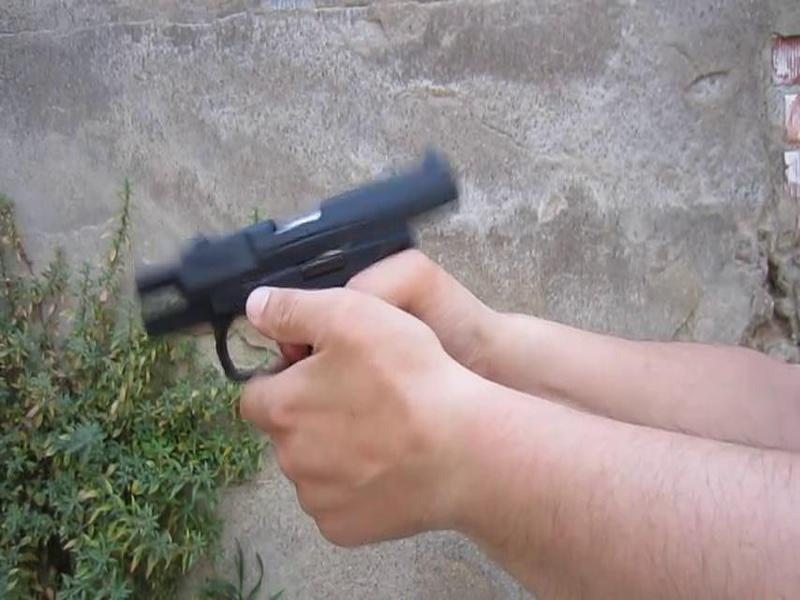Pistola: (122, 137, 465, 389)
